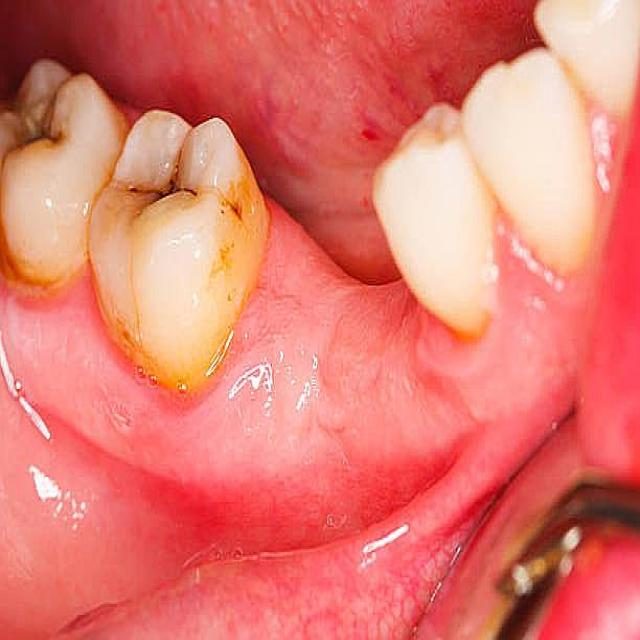caries: (124, 132, 205, 232), (4, 79, 79, 179)
